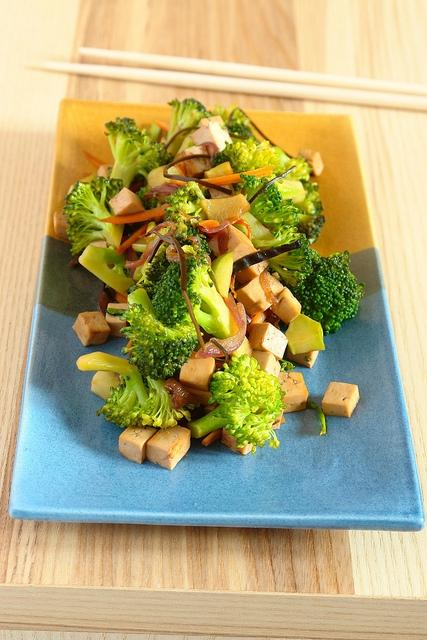broccoli: (152, 250, 252, 359), (187, 354, 287, 456), (279, 250, 365, 338), (119, 288, 199, 380), (233, 212, 320, 288), (76, 351, 156, 429), (104, 116, 174, 190), (62, 176, 126, 256), (212, 140, 286, 195), (78, 244, 136, 298), (166, 98, 216, 156), (164, 180, 206, 222), (240, 174, 282, 216), (145, 247, 170, 284), (294, 190, 324, 216), (226, 110, 254, 137)
carrot: (169, 165, 274, 188), (96, 203, 170, 224), (116, 222, 150, 255), (246, 307, 270, 333), (82, 150, 106, 169), (201, 427, 223, 446), (154, 120, 170, 134), (126, 333, 136, 355), (198, 219, 220, 229), (230, 274, 237, 298), (115, 292, 128, 304)
